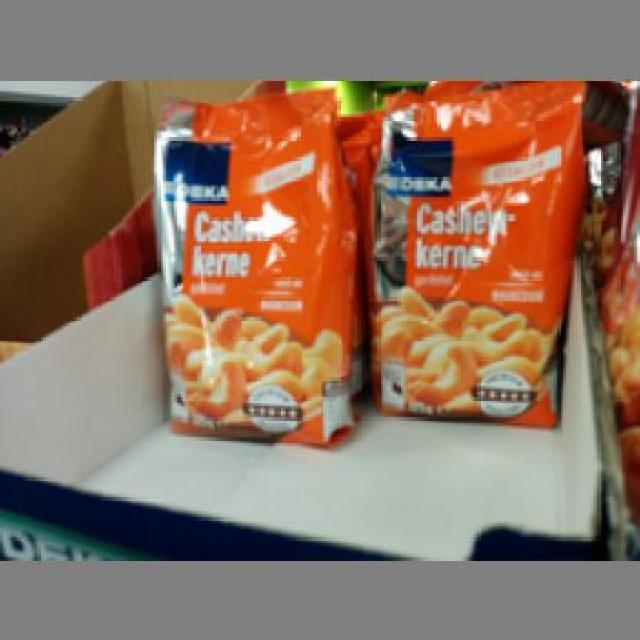Nuts: (363, 80, 586, 426), (148, 86, 354, 446)
